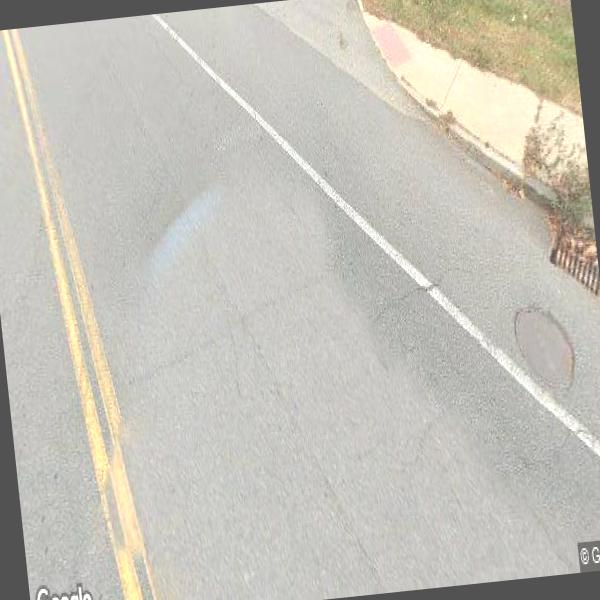manhole: (506, 292, 584, 402)
